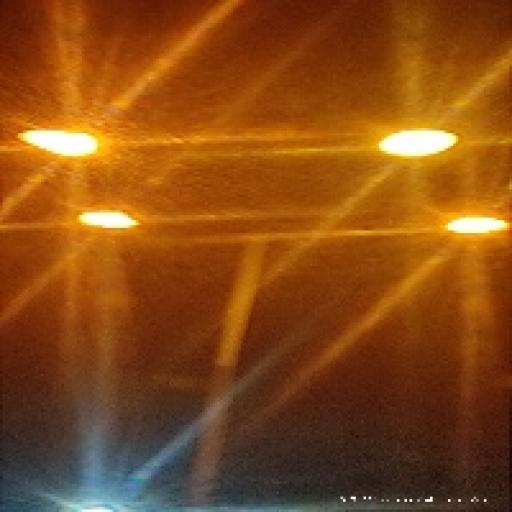Working: (367, 116, 474, 170), (11, 119, 108, 174), (432, 198, 512, 256), (70, 199, 150, 249)
